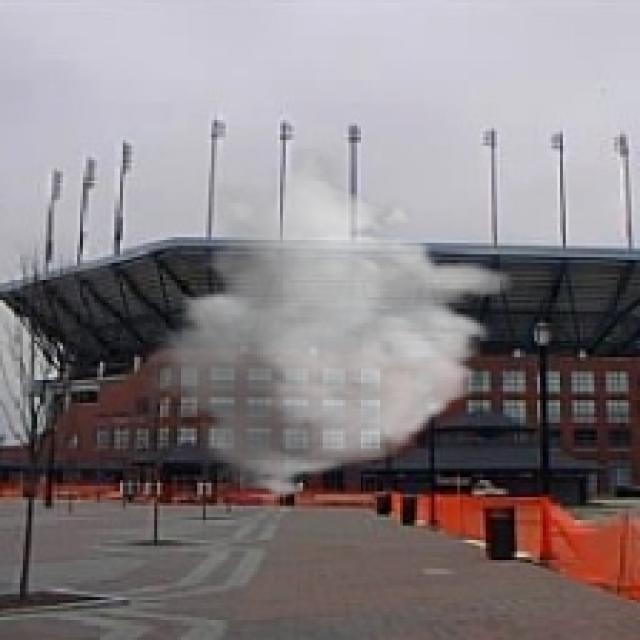smoke: (137, 148, 514, 503)
